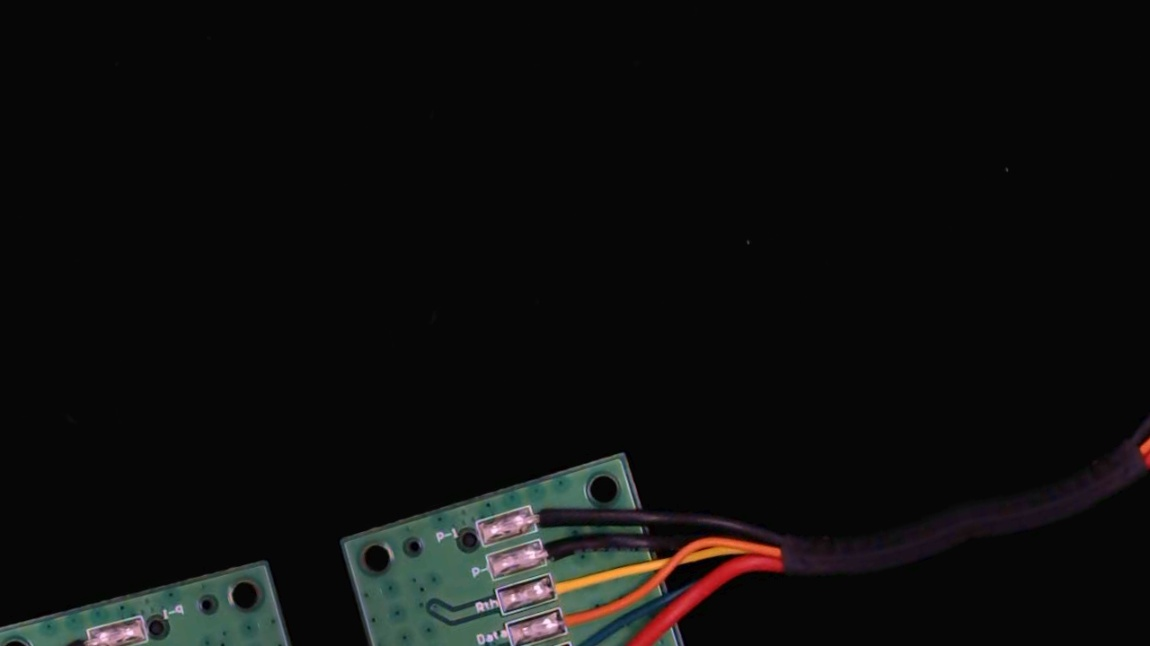Black: (527, 530, 590, 570)
Black1: (518, 491, 584, 536), (39, 626, 105, 646)
Green: (555, 630, 613, 646)
Orange: (547, 597, 605, 639)
Yellow: (534, 560, 599, 605)
